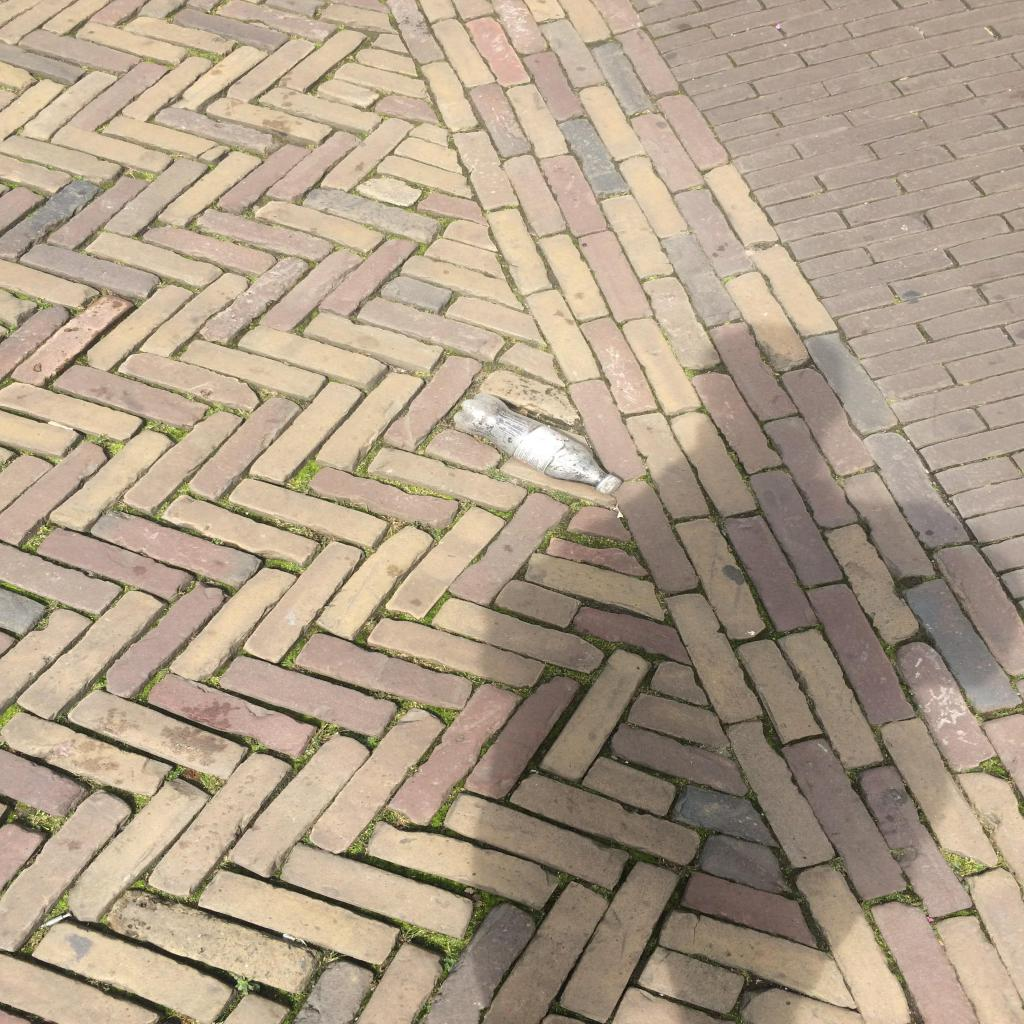Clear plastic bottle: (453, 393, 621, 495)
Plastic bottle cap: (598, 476, 620, 496)
Unlabeled litter: (41, 912, 72, 928)
